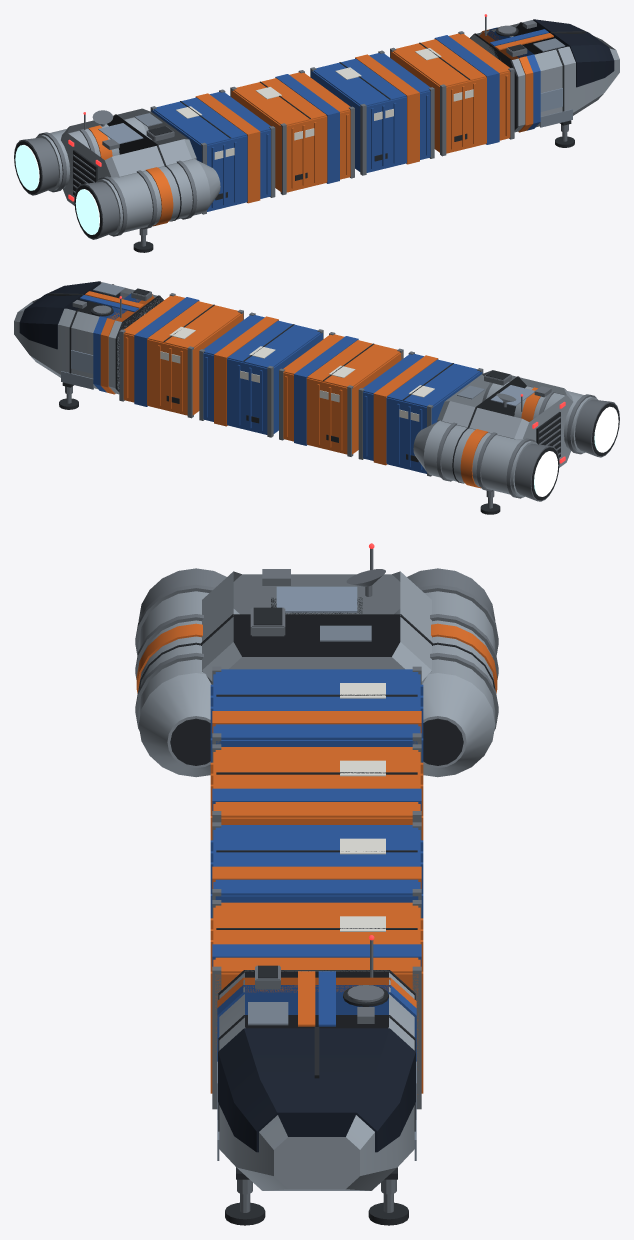
The model's file is hull_hauler.glb.
3 views of the same model, one above another, from view 1: azimuth 30°, elevation 25°; view 2: azimuth 150°, elevation 25°; view 3: azimuth 270°, elevation 25° (orthographic). The views are drawn at different scales.
Parts seen in each view (by area): view 1: hull_hauler_hauler_orange, hull_hauler_hauler_blue, hull_hauler_hauler_plate, hull_hauler_hauler_steel, hull_hauler_hauler_seam, hull_hauler_hauler_glass, hull_hauler_hauler_drive, hull_hauler_hauler_stencil, hull_hauler_hauler_patch_a, hull_hauler_hauler_patch_b; view 2: hull_hauler_hauler_orange, hull_hauler_hauler_blue, hull_hauler_hauler_plate, hull_hauler_hauler_steel, hull_hauler_hauler_seam, hull_hauler_hauler_glass, hull_hauler_hauler_drive, hull_hauler_hauler_stencil, hull_hauler_hauler_patch_a, hull_hauler_hauler_patch_b; view 3: hull_hauler_hauler_plate, hull_hauler_hauler_blue, hull_hauler_hauler_orange, hull_hauler_hauler_glass, hull_hauler_hauler_seam, hull_hauler_hauler_steel, hull_hauler_hauler_stencil, hull_hauler_hauler_patch_a, hull_hauler_hauler_patch_b.
Part boxes in pixels (x1,y1,x2,y2): hull_hauler_hauler_orange: [88, 29, 553, 226]; hull_hauler_hauler_blue: [151, 27, 548, 211]; hull_hauler_hauler_plate: [35, 22, 619, 235]; hull_hauler_hauler_steel: [14, 17, 568, 246]; hull_hauler_hauler_seam: [14, 22, 585, 252]; hull_hauler_hauler_glass: [530, 19, 614, 87]; hull_hauler_hauler_drive: [15, 145, 99, 234]; hull_hauler_hauler_stencil: [176, 48, 473, 159]; hull_hauler_hauler_patch_a: [98, 88, 562, 143]; hull_hauler_hauler_patch_b: [134, 38, 572, 127]; hull_hauler_hauler_orange: [85, 291, 540, 488]; hull_hauler_hauler_blue: [80, 293, 482, 473]; hull_hauler_hauler_plate: [14, 282, 598, 497]; hull_hauler_hauler_steel: [65, 288, 619, 508]; hull_hauler_hauler_seam: [48, 284, 619, 514]; hull_hauler_hauler_glass: [19, 281, 100, 349]; hull_hauler_hauler_drive: [534, 406, 618, 496]; hull_hauler_hauler_stencil: [160, 326, 434, 421]; hull_hauler_hauler_patch_a: [71, 350, 534, 406]; hull_hauler_hauler_patch_b: [61, 282, 484, 399]; hull_hauler_hauler_plate: [138, 571, 495, 1190]; hull_hauler_hauler_blue: [210, 669, 423, 1061]; hull_hauler_hauler_orange: [136, 623, 497, 1094]; hull_hauler_hauler_glass: [218, 1028, 415, 1152]; hull_hauler_hauler_seam: [138, 597, 495, 1225]; hull_hauler_hauler_steel: [135, 548, 498, 1212]; hull_hauler_hauler_stencil: [340, 683, 385, 931]; hull_hauler_hauler_patch_a: [217, 586, 416, 1119]; hull_hauler_hauler_patch_b: [217, 625, 416, 1160].
Bounding box in the file's own units: 22.15 × 4.52 × 6.32.
